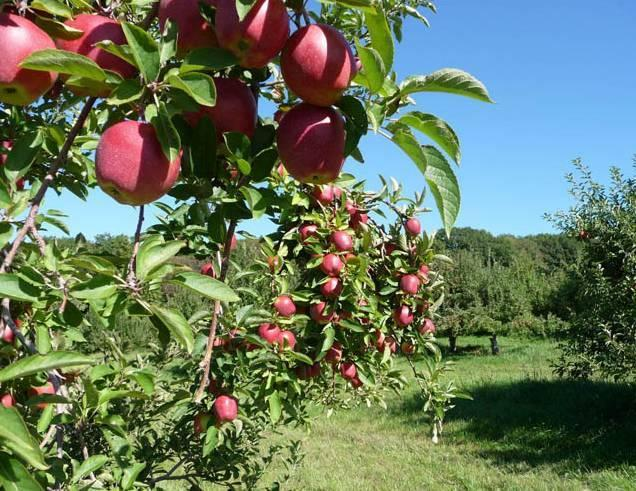apple: (95, 119, 176, 204), (279, 23, 356, 105), (63, 15, 136, 95), (1, 12, 61, 106), (279, 104, 344, 185), (182, 74, 256, 140), (216, 1, 290, 66), (162, 1, 217, 50), (212, 394, 237, 421), (332, 228, 354, 250), (323, 276, 345, 298), (273, 294, 295, 316), (324, 255, 346, 277), (398, 274, 419, 294), (419, 317, 435, 337), (340, 359, 356, 379), (395, 305, 411, 325), (406, 216, 422, 236)
